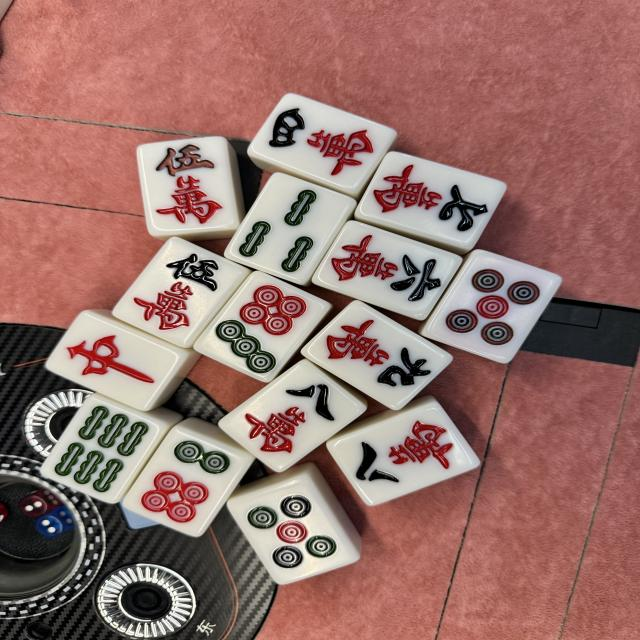hdr: (42, 312, 186, 411)
sb3: (224, 173, 358, 286)
sb6: (38, 395, 169, 504)
sc4: (246, 92, 397, 195)
sc5: (112, 236, 248, 348), (136, 136, 240, 234)
sc6: (312, 220, 463, 321)
sc7: (354, 151, 506, 251)
sc8: (219, 360, 367, 473), (325, 402, 478, 507)
sc9: (300, 299, 452, 412)
sd5: (418, 249, 562, 364), (226, 474, 361, 585)
sd6: (124, 426, 254, 538)
sd7: (192, 270, 332, 382)
